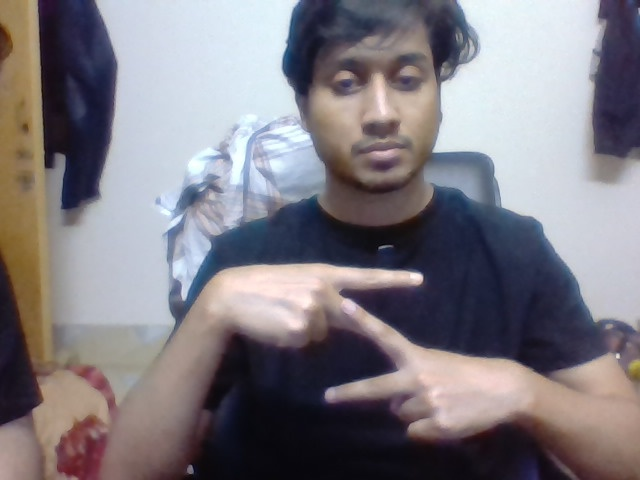Z: (321, 256, 427, 414)
